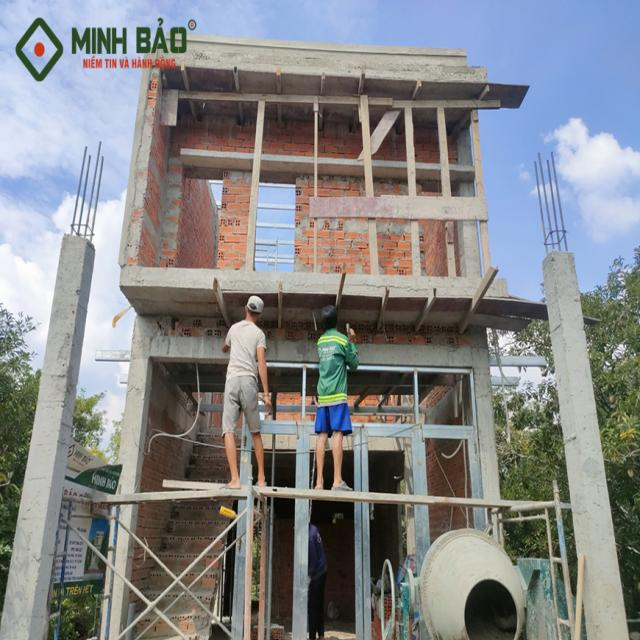no_boots: (219, 473, 243, 491), (329, 477, 355, 492), (250, 471, 268, 490), (312, 473, 325, 490)
no_gloves: (262, 394, 272, 412), (346, 328, 356, 346)
no_hardhat: (243, 293, 265, 323), (319, 305, 340, 332)
no_vest: (225, 320, 268, 393)
person: (221, 295, 272, 489), (311, 305, 359, 492)
vest: (314, 327, 357, 407)
